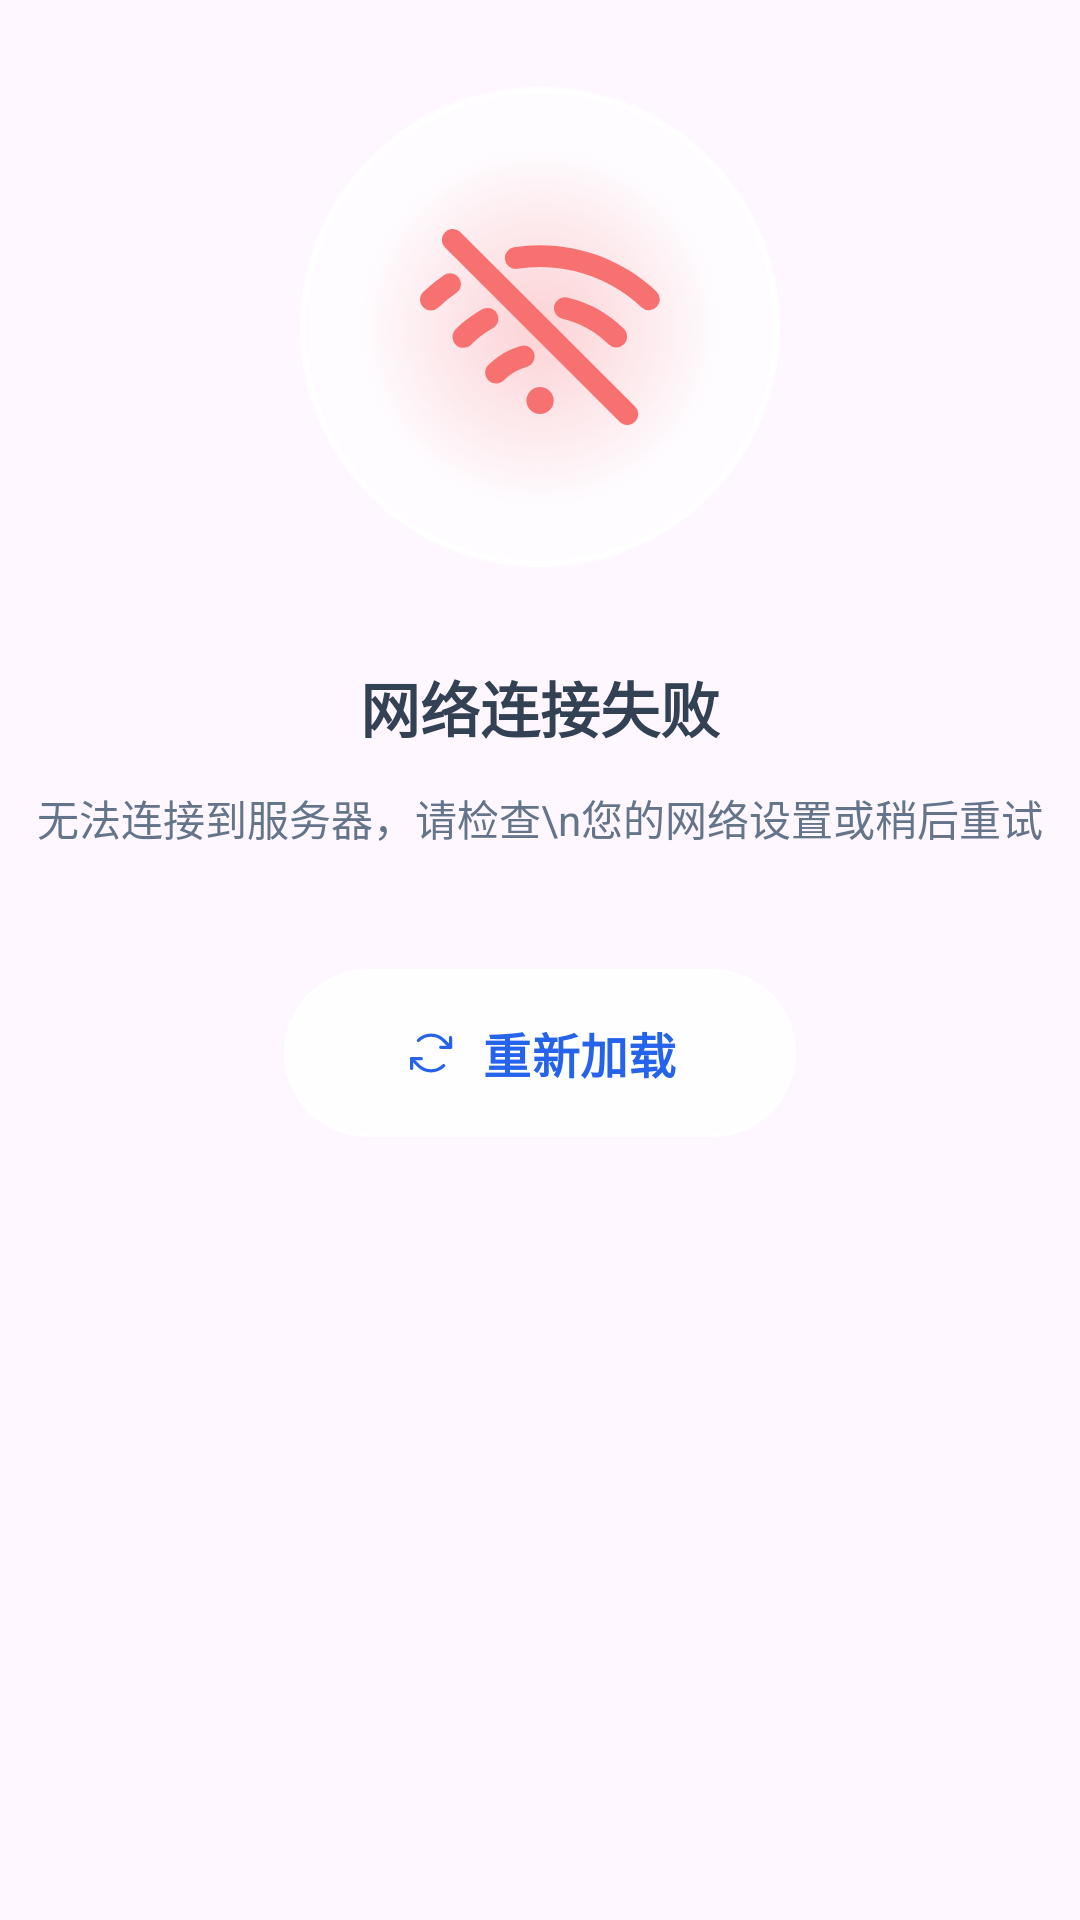

Locate icon controls on the screen. Image size 1080x1920, boxes as (x1, y1, x2, y2).
state error: (420, 223, 660, 431)
